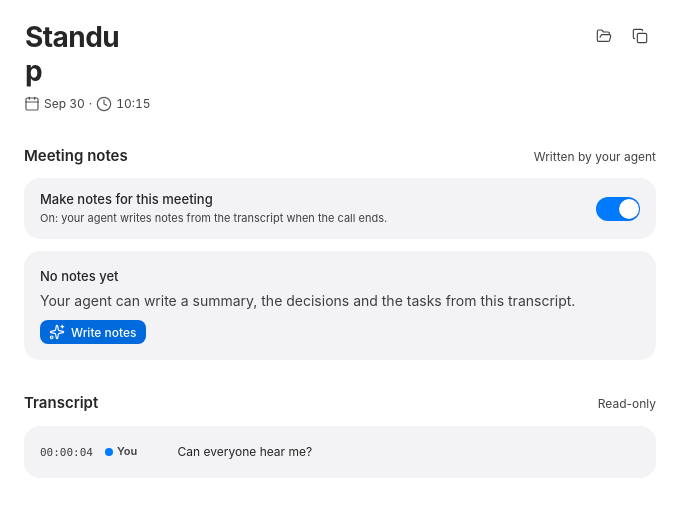
Test: Review's header › Enter saves a new title, which the heading then shows
Click the button with aria-label "Rename meeting" at x=88, y=55, box left=20, top=20, right=155, bottom=89
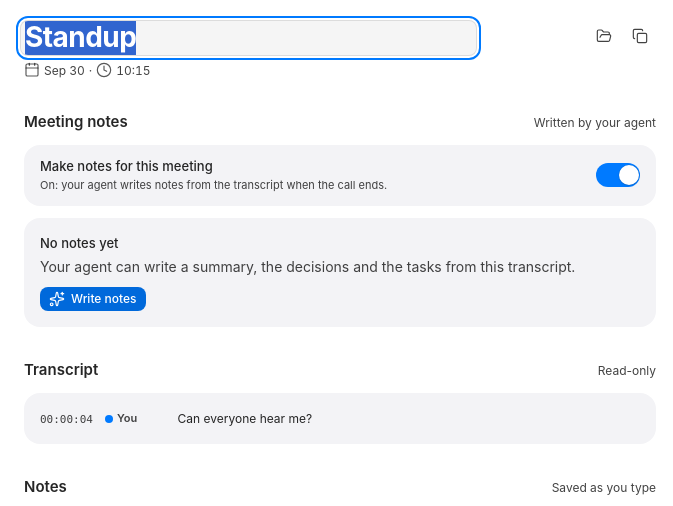
Check: the field named "Meeting title" holds "Standup"
Replace the text in the field named "Meeting title" with "  Budget review " at x=248, y=38, box left=20, top=20, right=477, bottom=56
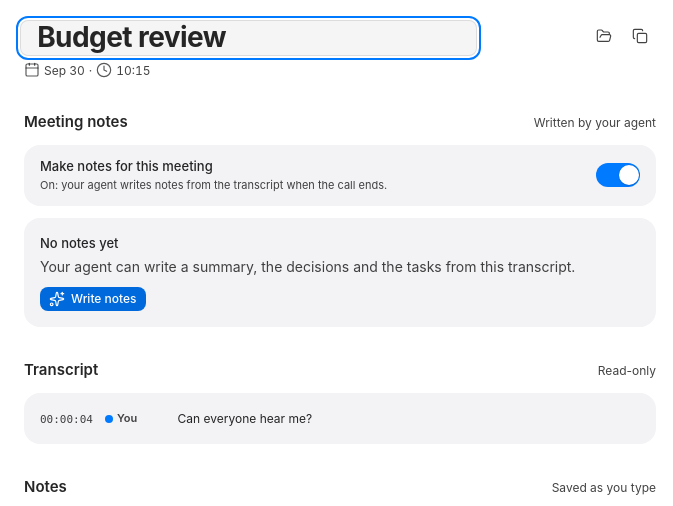
Press Enter in the field named "Meeting title", box left=20, top=20, right=477, bottom=56
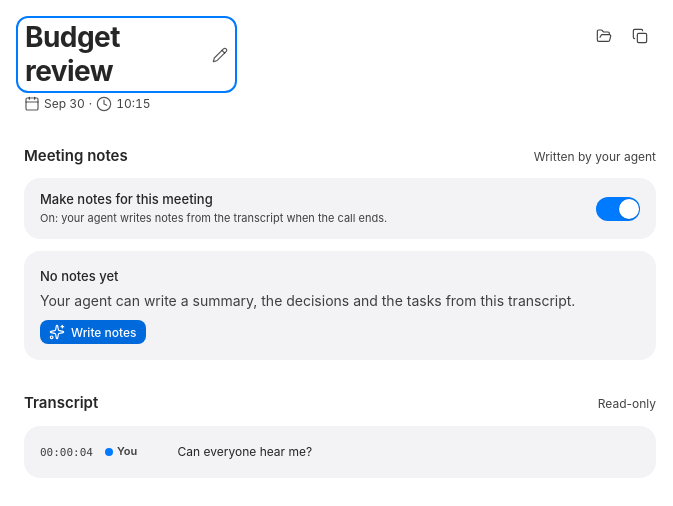
Check: the heading "Budget review" is shown, box left=24, top=20, right=237, bottom=89
